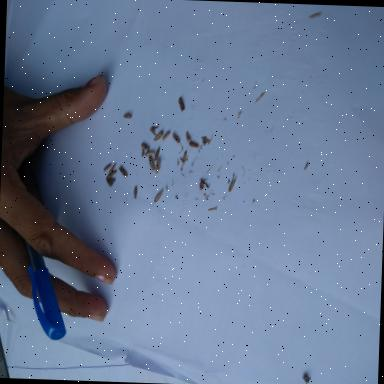pbw: (118, 164, 128, 178), (154, 158, 162, 174), (148, 156, 156, 172), (177, 96, 185, 112), (153, 130, 163, 142), (154, 190, 162, 203), (228, 178, 235, 192), (184, 131, 192, 143), (154, 145, 160, 161), (172, 132, 180, 144), (107, 170, 116, 180), (140, 142, 149, 152), (162, 130, 170, 140), (109, 163, 116, 174), (188, 141, 198, 148), (105, 176, 112, 186), (149, 126, 156, 136), (144, 151, 155, 157), (181, 150, 186, 163), (103, 163, 111, 171), (133, 186, 137, 200), (123, 112, 131, 119)
